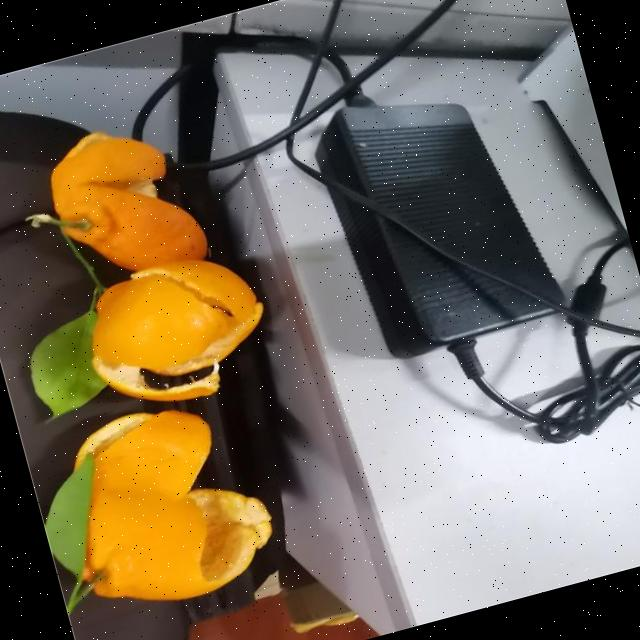orange-peel: (42, 385, 286, 625), (70, 239, 280, 421), (35, 109, 212, 292)
